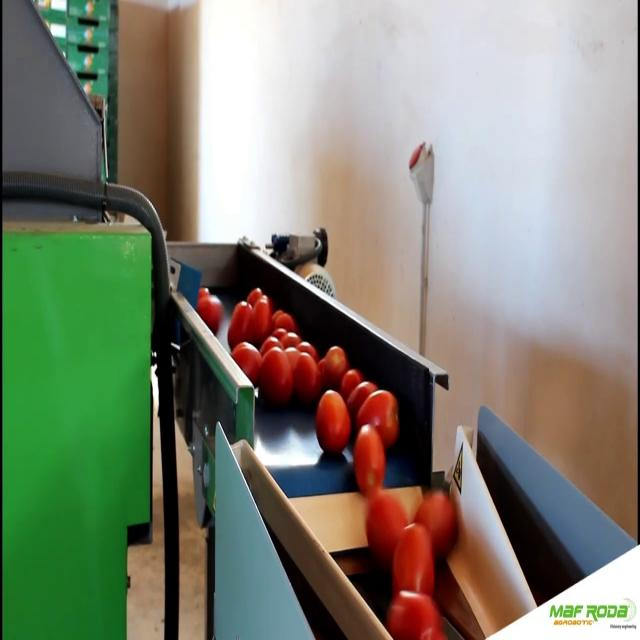Tomato: (391, 524, 438, 599), (411, 482, 457, 553), (388, 588, 442, 640), (310, 388, 350, 458), (352, 423, 386, 490), (354, 391, 400, 438), (258, 349, 292, 406), (364, 498, 401, 550), (294, 350, 319, 401), (226, 301, 251, 344), (231, 343, 260, 379), (198, 292, 224, 331), (322, 346, 346, 387), (251, 299, 271, 341), (342, 369, 358, 390)
